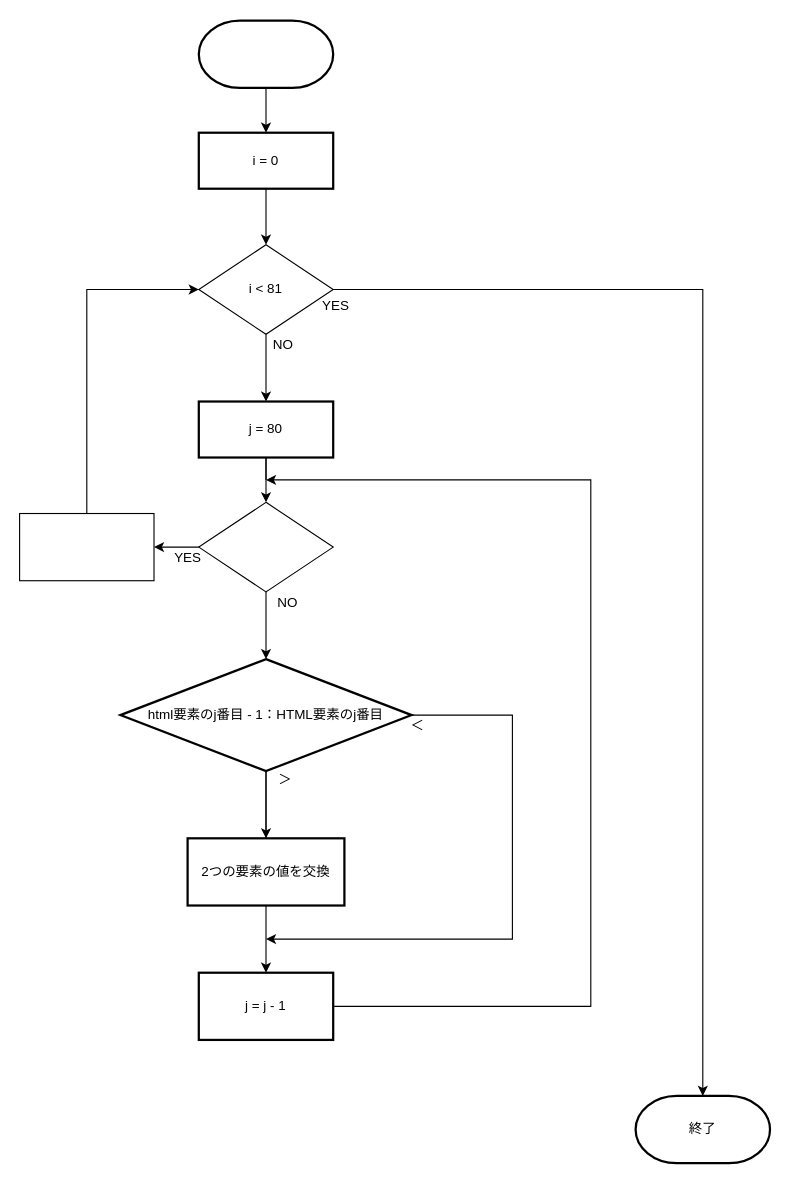
The diagram is 791 pixels wide and 1183 high, and some of its shapes have lost their labels. Each missing label, with the box of its shape:
i = i + 1: (18, 512, 154, 581)
j < i: (198, 501, 333, 592)
開始: (197, 19, 334, 88)
